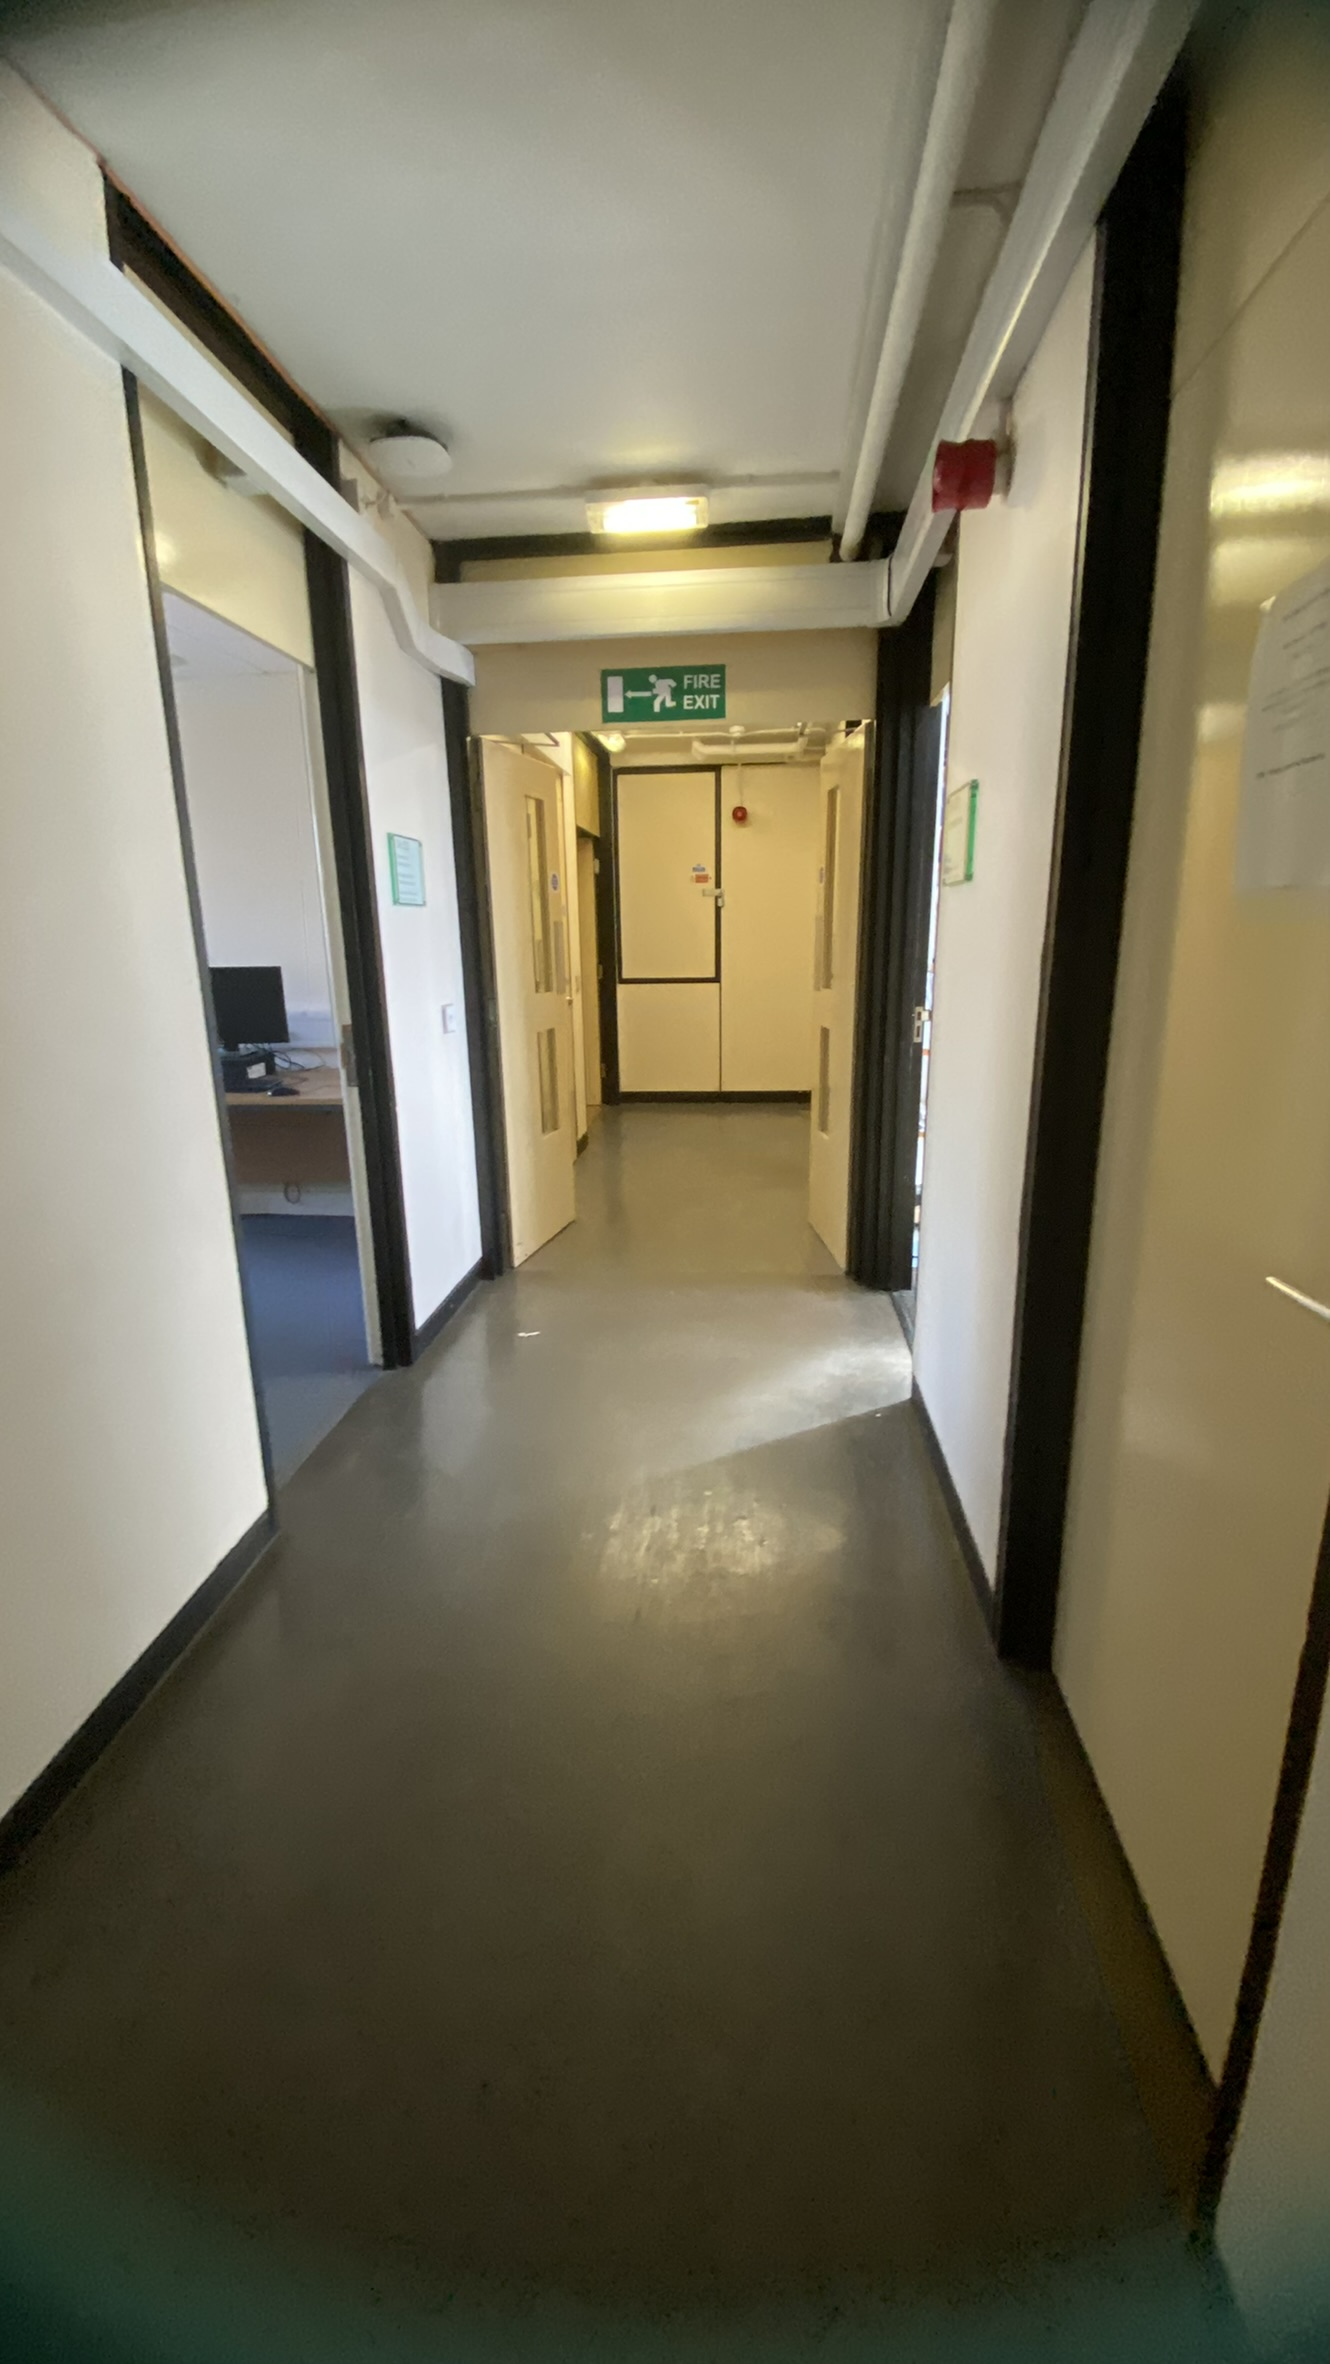door: (80, 354, 448, 1529), (427, 675, 922, 1271)
